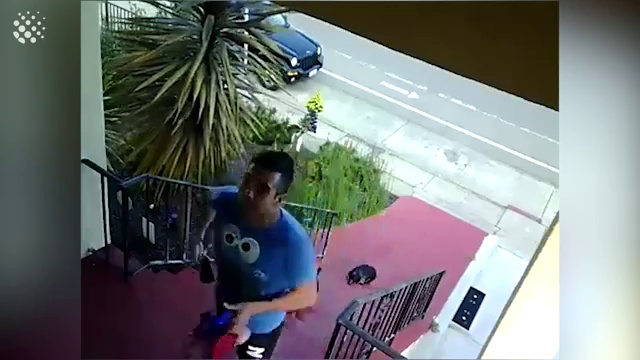face: (239, 173, 274, 215)
